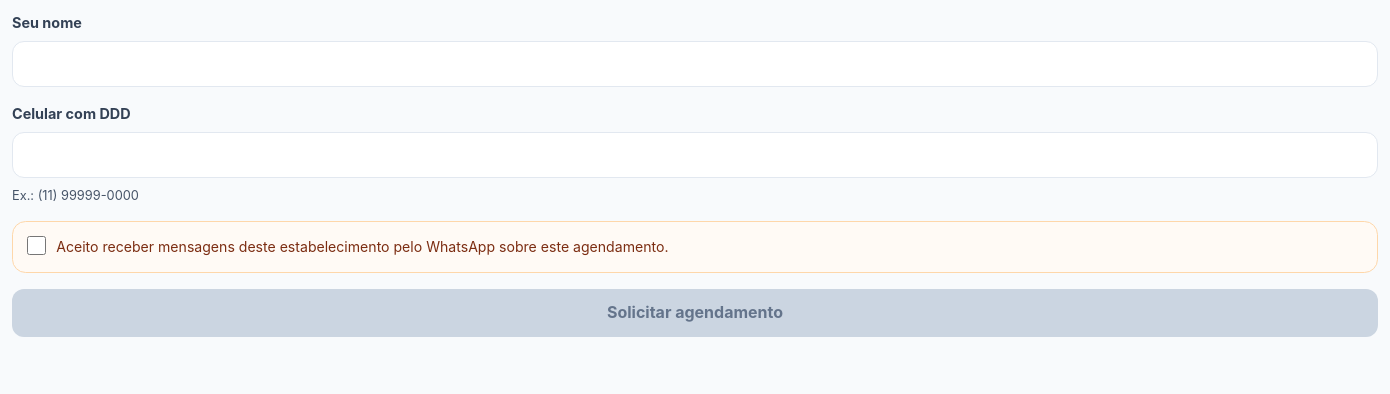
BookingForm › validates required fields even if browser controls are bypassed
Submit the form named "Solicitar agendamento"
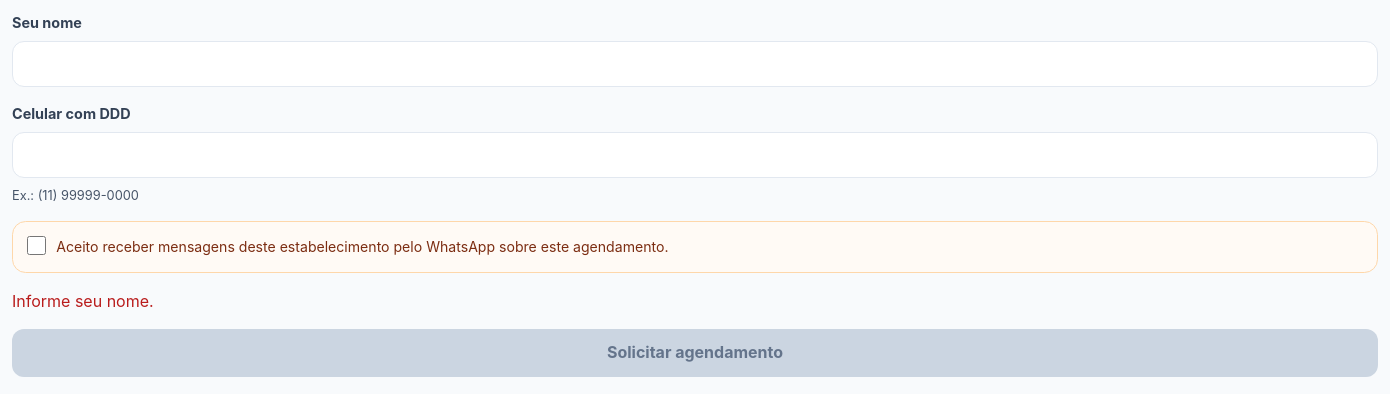
Now the message reads "Informe seu nome.", box [12, 291, 154, 311]
Type "Maria Silva" into the field labelled "Seu nome" at (695, 64), box [12, 41, 1378, 87]
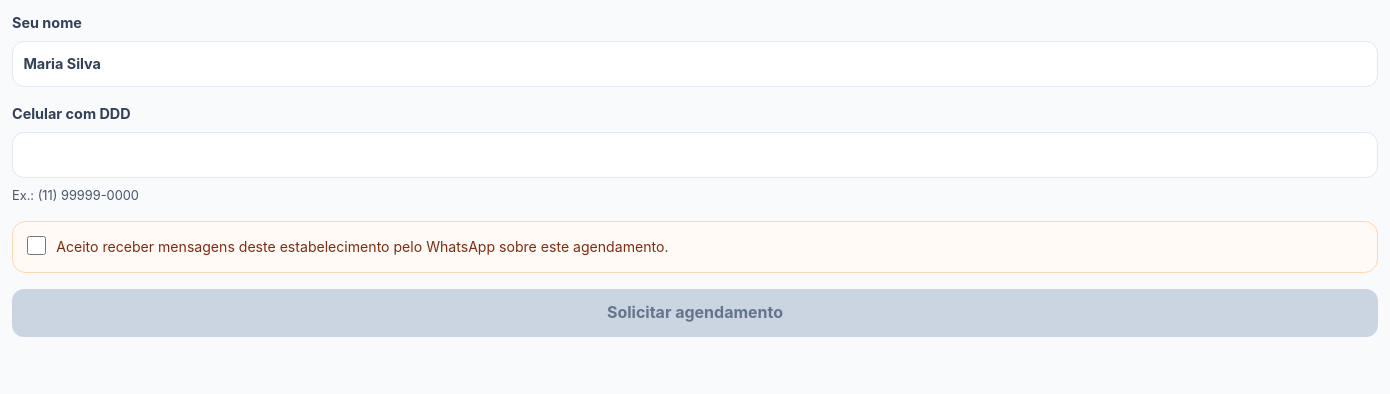
Submit the form named "Solicitar agendamento"
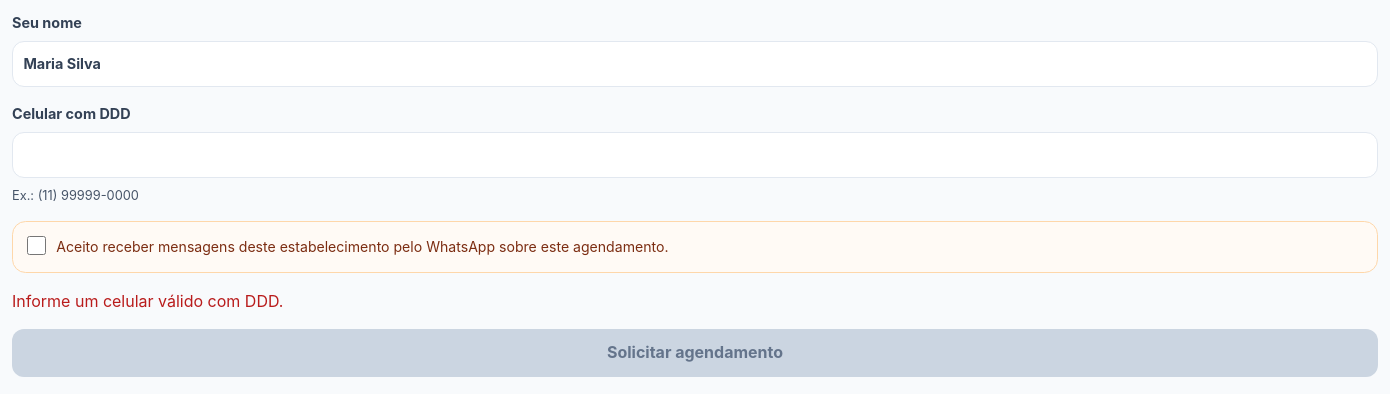
Now the message reads "Informe um celular válido com DDD.", box [12, 291, 283, 311]
